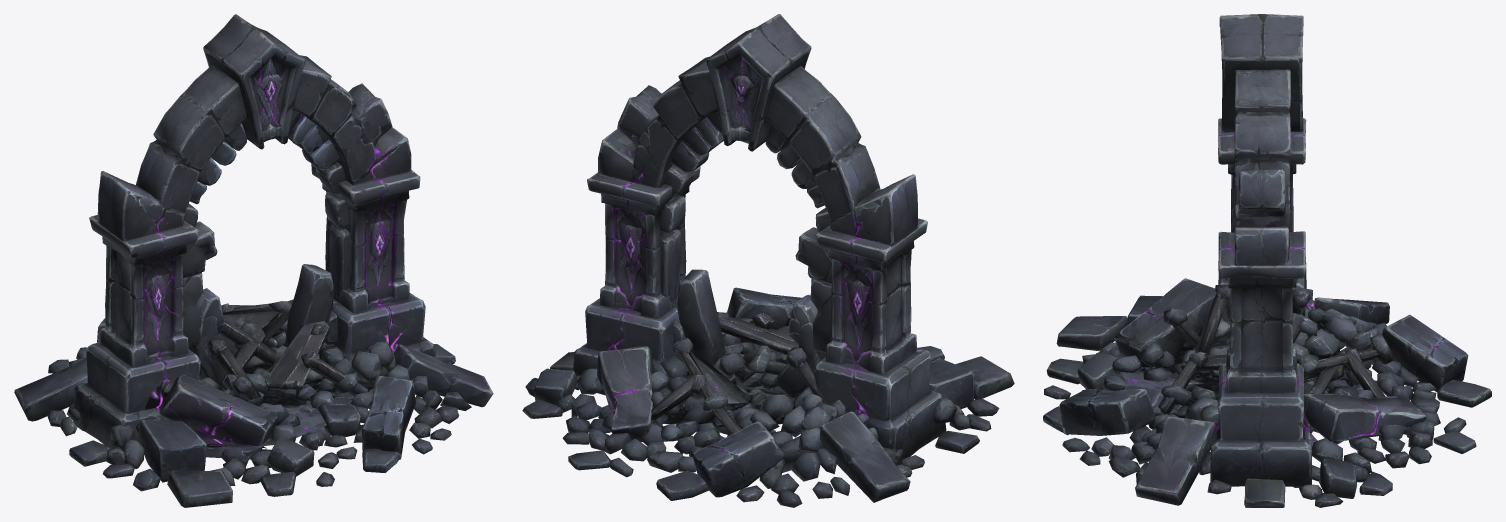
The model's file is door_standard_destroyed.glb.
3 views of the same model, side by side, from view 1: azimuth 30°, elevation 25°; view 2: azimuth 150°, elevation 25°; view 3: azimuth 270°, elevation 25° (orthographic). The views are drawn at different scales.
Bounding box in the file's own units: 1 × 0.9434 × 0.9629.
Materials: 1 (1 with a texture image).
